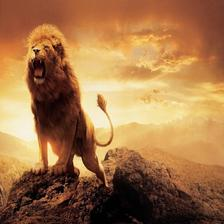Lion: (21, 28, 113, 196)
